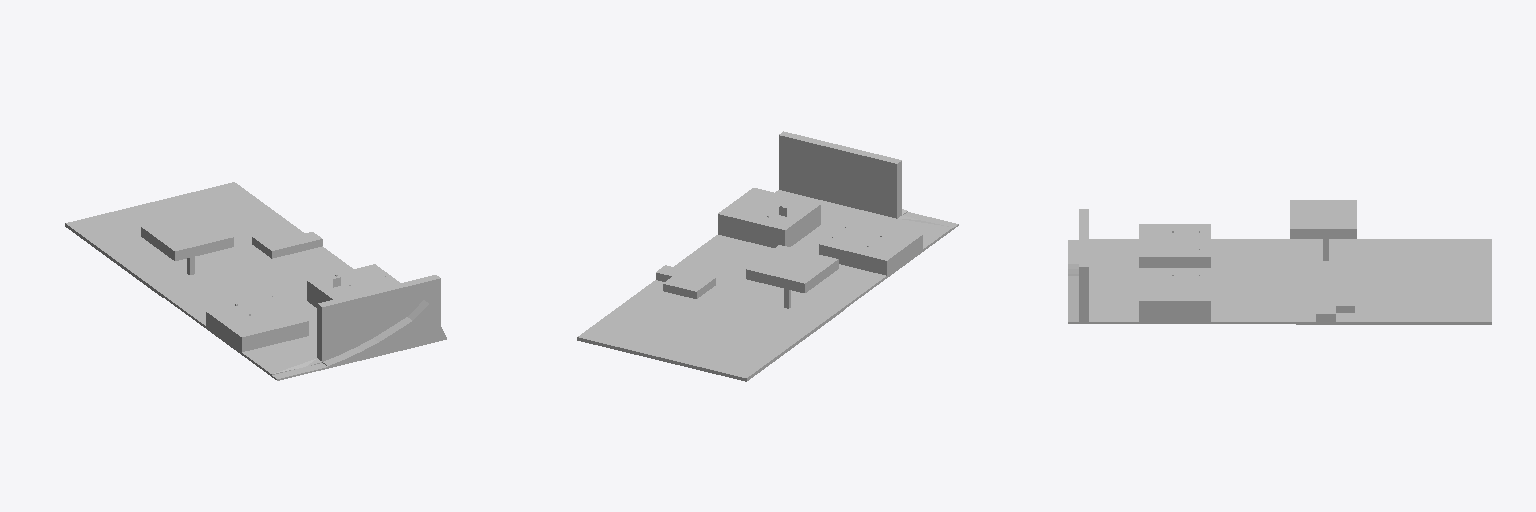
File: bataille6.obj
3 views of the same model, side by side, from view 1: azimuth 30°, elevation 25°; view 2: azimuth 150°, elevation 25°; view 3: azimuth 270°, elevation 25° (orthographic).
Visible parts, largest first — view 1: Terrain; view 2: Terrain; view 3: Terrain.
Part boxes in pixels (x1,y1,x2,y2): Terrain: (65,182,446,380); Terrain: (577,131,958,381); Terrain: (1068,200,1491,324).
Size of the model in its own units: 42.15 by 14.5 by 91.37.